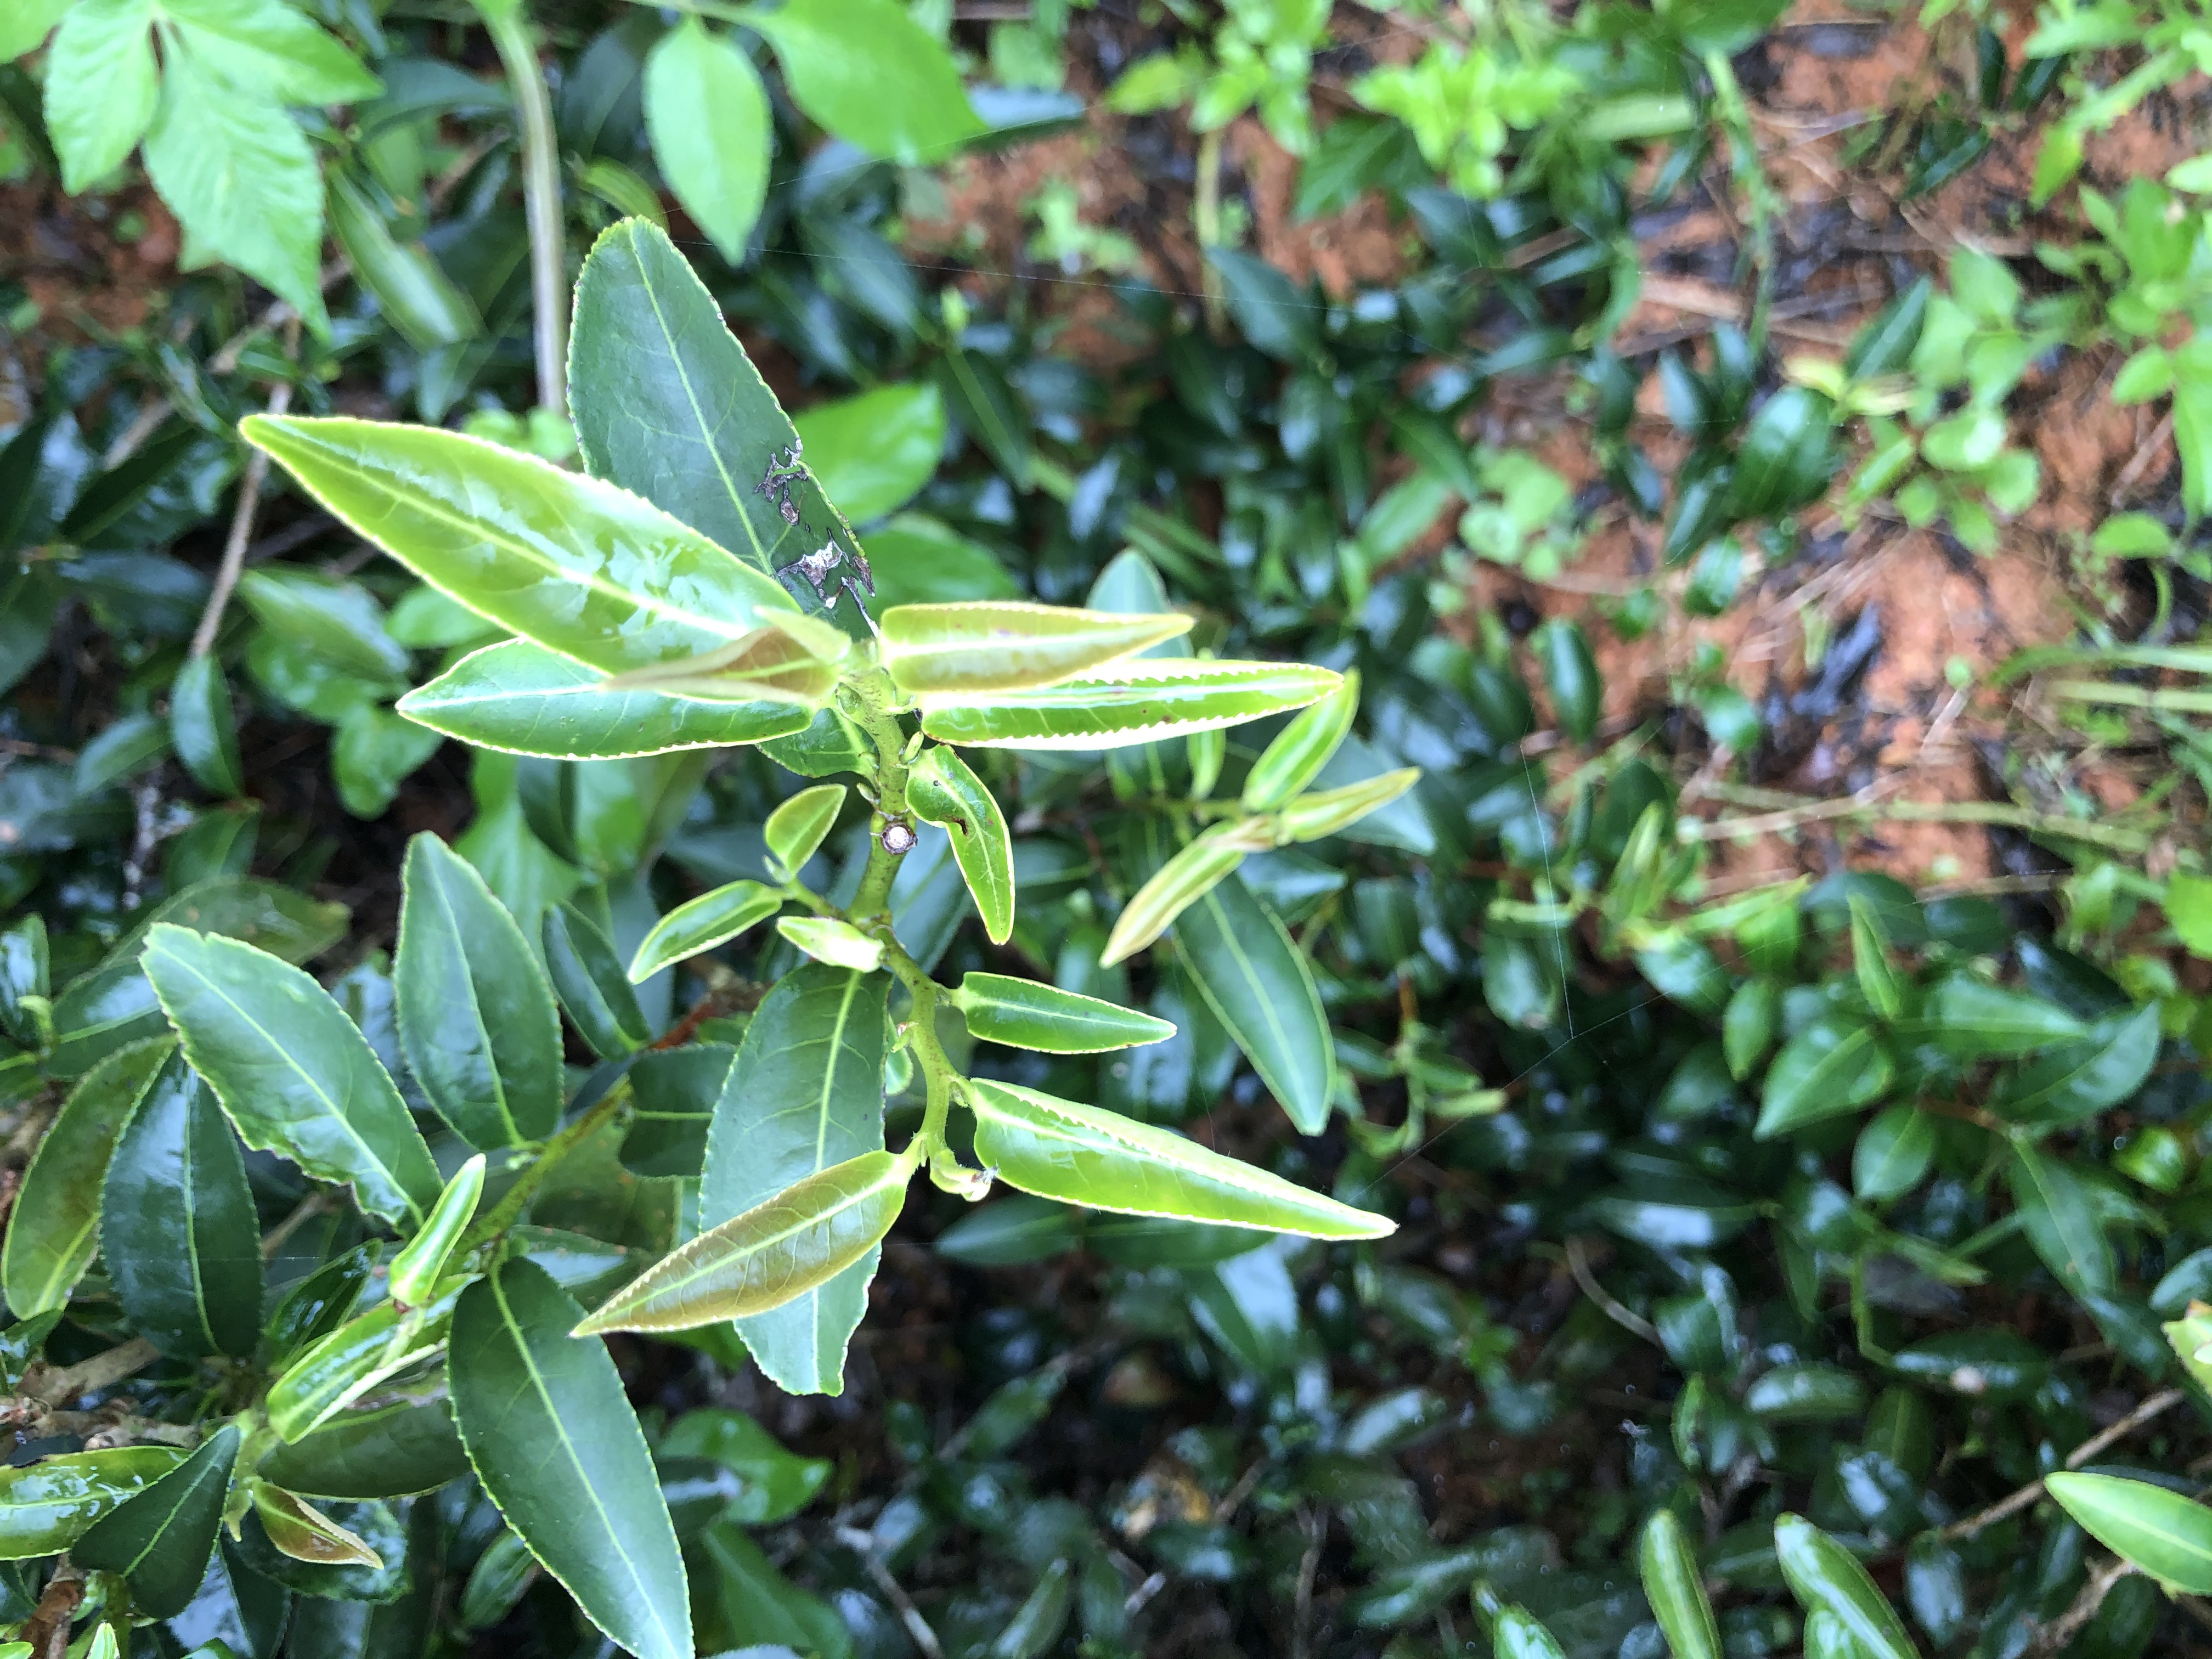formosa: (573, 1147, 900, 1347), (894, 579, 1190, 708)
